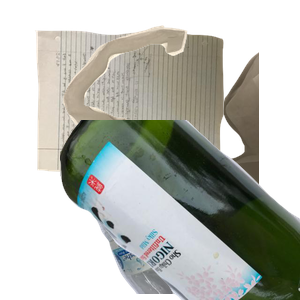glass: (60, 120, 300, 300)
paper: (32, 28, 249, 196)
plastic: (63, 120, 263, 300)
trash: (60, 23, 300, 203)
